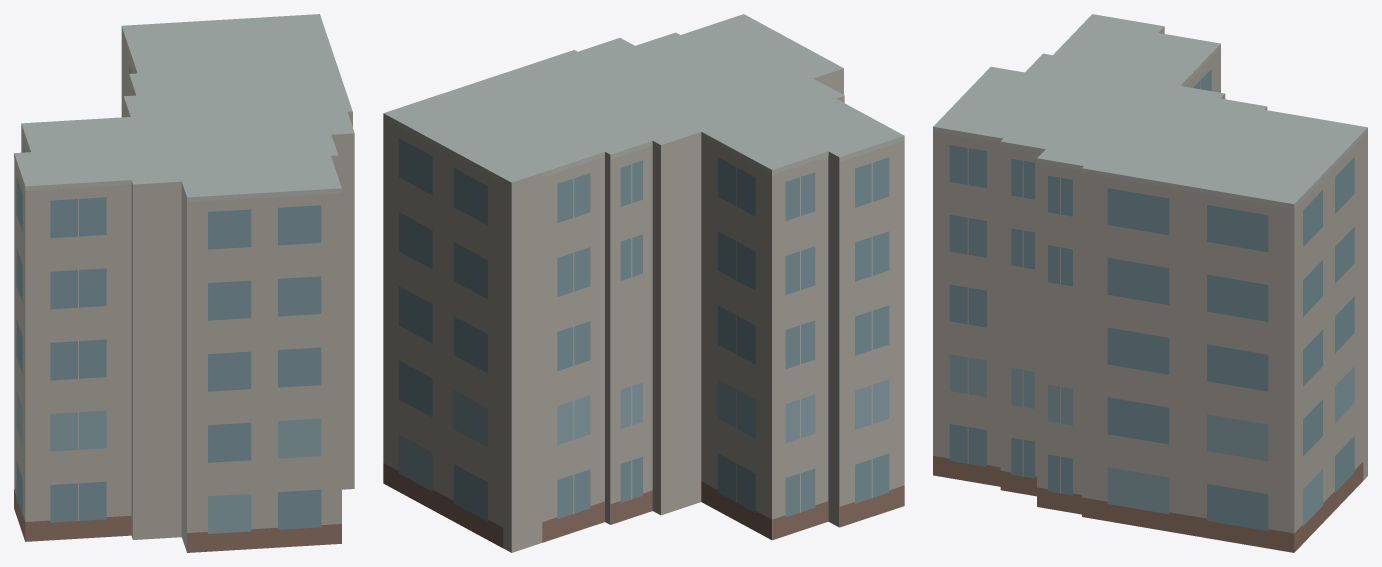
Rendered from survey-upis-32585570.glb.
The picture shows the model from 3 angles, left to right: view 1: azimuth 30°, elevation 25°; view 2: azimuth 150°, elevation 25°; view 3: azimuth 270°, elevation 25°; orthographic projection. The views are drawn at different scales.
Parts seen in each view (by area): view 1: survey-upis-32585570.tmp; view 2: survey-upis-32585570.tmp; view 3: survey-upis-32585570.tmp.
Boxes of the visible parts, left/top/right/bottom form: survey-upis-32585570.tmp: left=14, top=14, right=354, bottom=552; survey-upis-32585570.tmp: left=383, top=14, right=904, bottom=552; survey-upis-32585570.tmp: left=933, top=14, right=1367, bottom=552.
Size of the model in its own units: 21.42 by 18.3 by 20.69.
